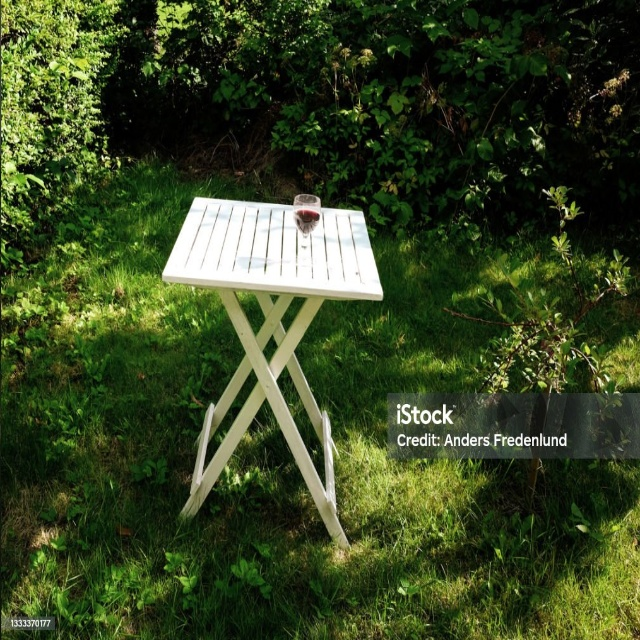obstacle: (160, 195, 381, 552), (463, 281, 601, 378)
